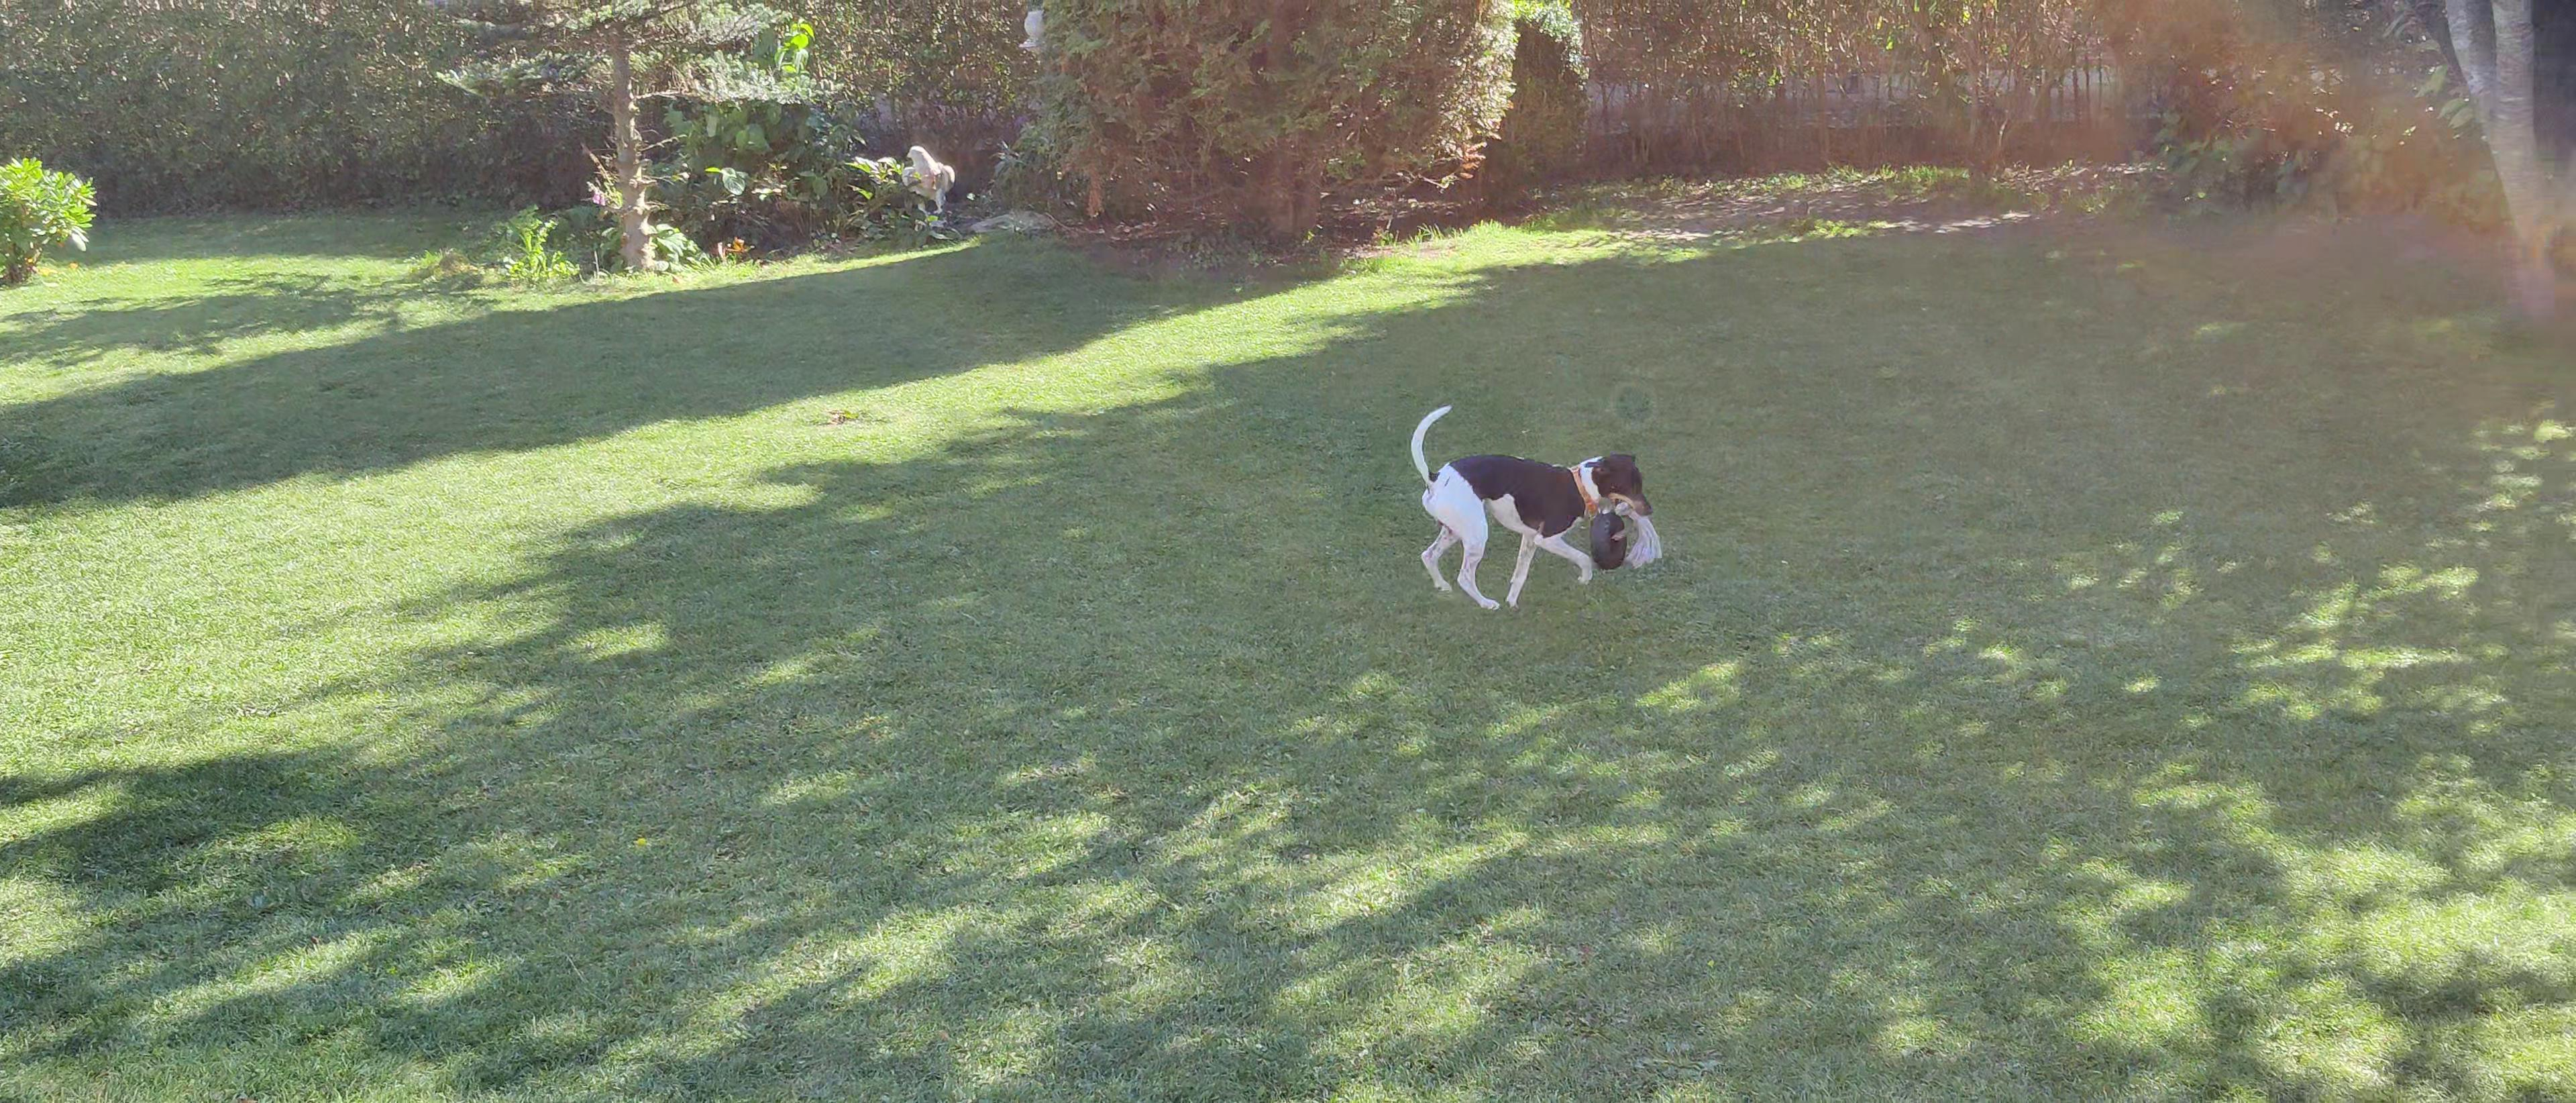Dog: (1398, 398, 1664, 613)
